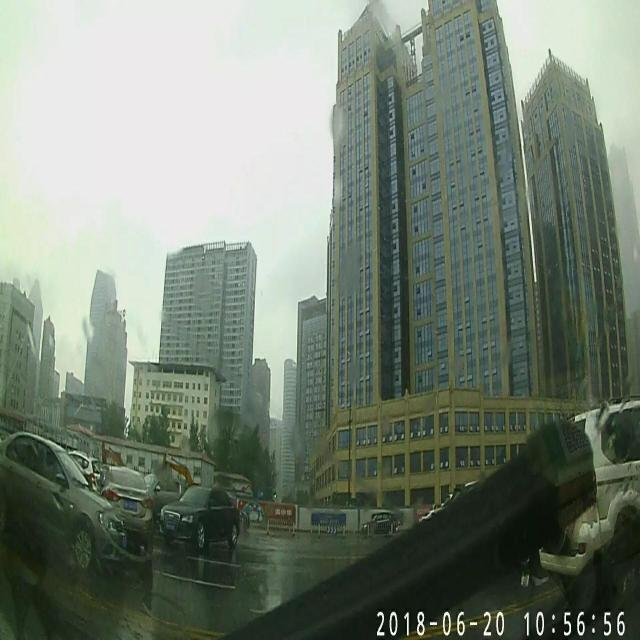car: (0, 430, 125, 570), (158, 480, 242, 552), (98, 462, 152, 542), (360, 508, 400, 538)
